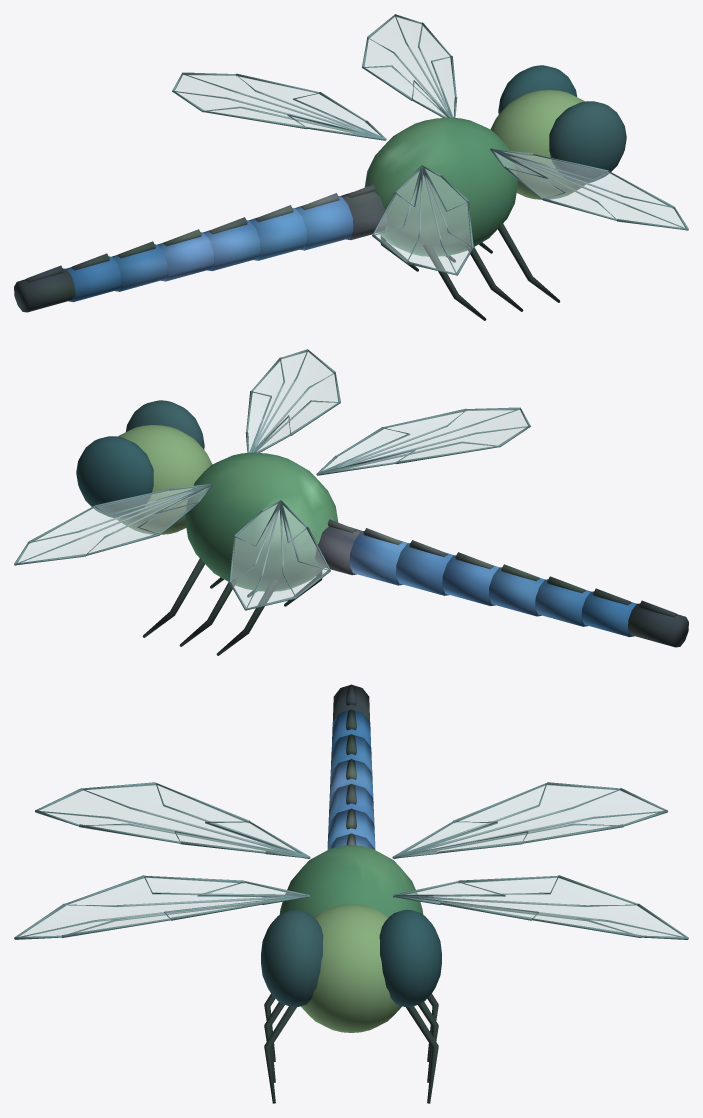
The model's file is common_green_darner_hybrid.glb.
3 renders of one model, top to bottom at view 1: azimuth 30°, elevation 25°; view 2: azimuth 150°, elevation 25°; view 3: azimuth 270°, elevation 25°, orthographic. The views are drawn at different scales.
Visible parts, largest first — view 1: ContinuousThorax, HindWingLMembrane, HindWingRMembrane, ForeWingLMembrane, ForeWingRMembrane, Head, CompoundEyeL, AbdomenSegment01, AbdomenSegment02, AbdomenSegment03, AbdomenSegment07, AbdomenSegment04 (+7 smaller); view 2: ContinuousThorax, HindWingRMembrane, HindWingLMembrane, ForeWingRMembrane, ForeWingLMembrane, Head, CompoundEyeR, AbdomenSegment01, AbdomenSegment02, AbdomenSegment03, AbdomenSegment07, AbdomenSegment04 (+7 smaller); view 3: Head, HindWingRMembrane, HindWingLMembrane, ForeWingRMembrane, ForeWingLMembrane, ContinuousThorax, CompoundEyeL, CompoundEyeR, AbdomenSegment02, AbdomenSegment03, AbdomenSegment04, AbdomenSegment05 (+4 smaller).
Boxes of the visible parts, x1,y1,x2,y2 form: ContinuousThorax: [364, 117, 518, 256]; HindWingLMembrane: [374, 169, 471, 272]; HindWingRMembrane: [175, 74, 380, 135]; ForeWingLMembrane: [495, 151, 684, 227]; ForeWingRMembrane: [364, 16, 454, 117]; Head: [490, 90, 585, 199]; CompoundEyeL: [549, 101, 626, 183]; AbdomenSegment01: [294, 196, 353, 250]; AbdomenSegment02: [249, 208, 306, 260]; AbdomenSegment03: [203, 220, 260, 270]; AbdomenSegment07: [14, 268, 74, 312]; AbdomenSegment04: [157, 232, 214, 281]; ContinuousThorax: [184, 452, 338, 591]; HindWingRMembrane: [231, 504, 328, 607]; HindWingLMembrane: [322, 409, 527, 470]; ForeWingRMembrane: [18, 486, 207, 562]; ForeWingLMembrane: [248, 351, 338, 452]; Head: [117, 425, 212, 534]; CompoundEyeR: [76, 436, 153, 518]; AbdomenSegment01: [349, 531, 408, 585]; AbdomenSegment02: [396, 543, 453, 595]; AbdomenSegment03: [442, 555, 499, 605]; AbdomenSegment07: [628, 603, 688, 647]; AbdomenSegment04: [488, 567, 545, 616]; Head: [301, 904, 401, 1032]; HindWingRMembrane: [404, 784, 663, 853]; HindWingLMembrane: [39, 784, 298, 853]; ForeWingRMembrane: [405, 877, 684, 936]; ForeWingLMembrane: [18, 877, 297, 936]; ContinuousThorax: [279, 845, 423, 916]; CompoundEyeL: [261, 909, 323, 1007]; CompoundEyeR: [379, 909, 441, 1007]; AbdomenSegment02: [327, 809, 375, 848]; AbdomenSegment03: [328, 784, 374, 823]; AbdomenSegment04: [329, 759, 373, 797]; AbdomenSegment05: [330, 735, 372, 772].
Size of the model in its own units: 0.1095 by 0.0332 by 0.0962.
